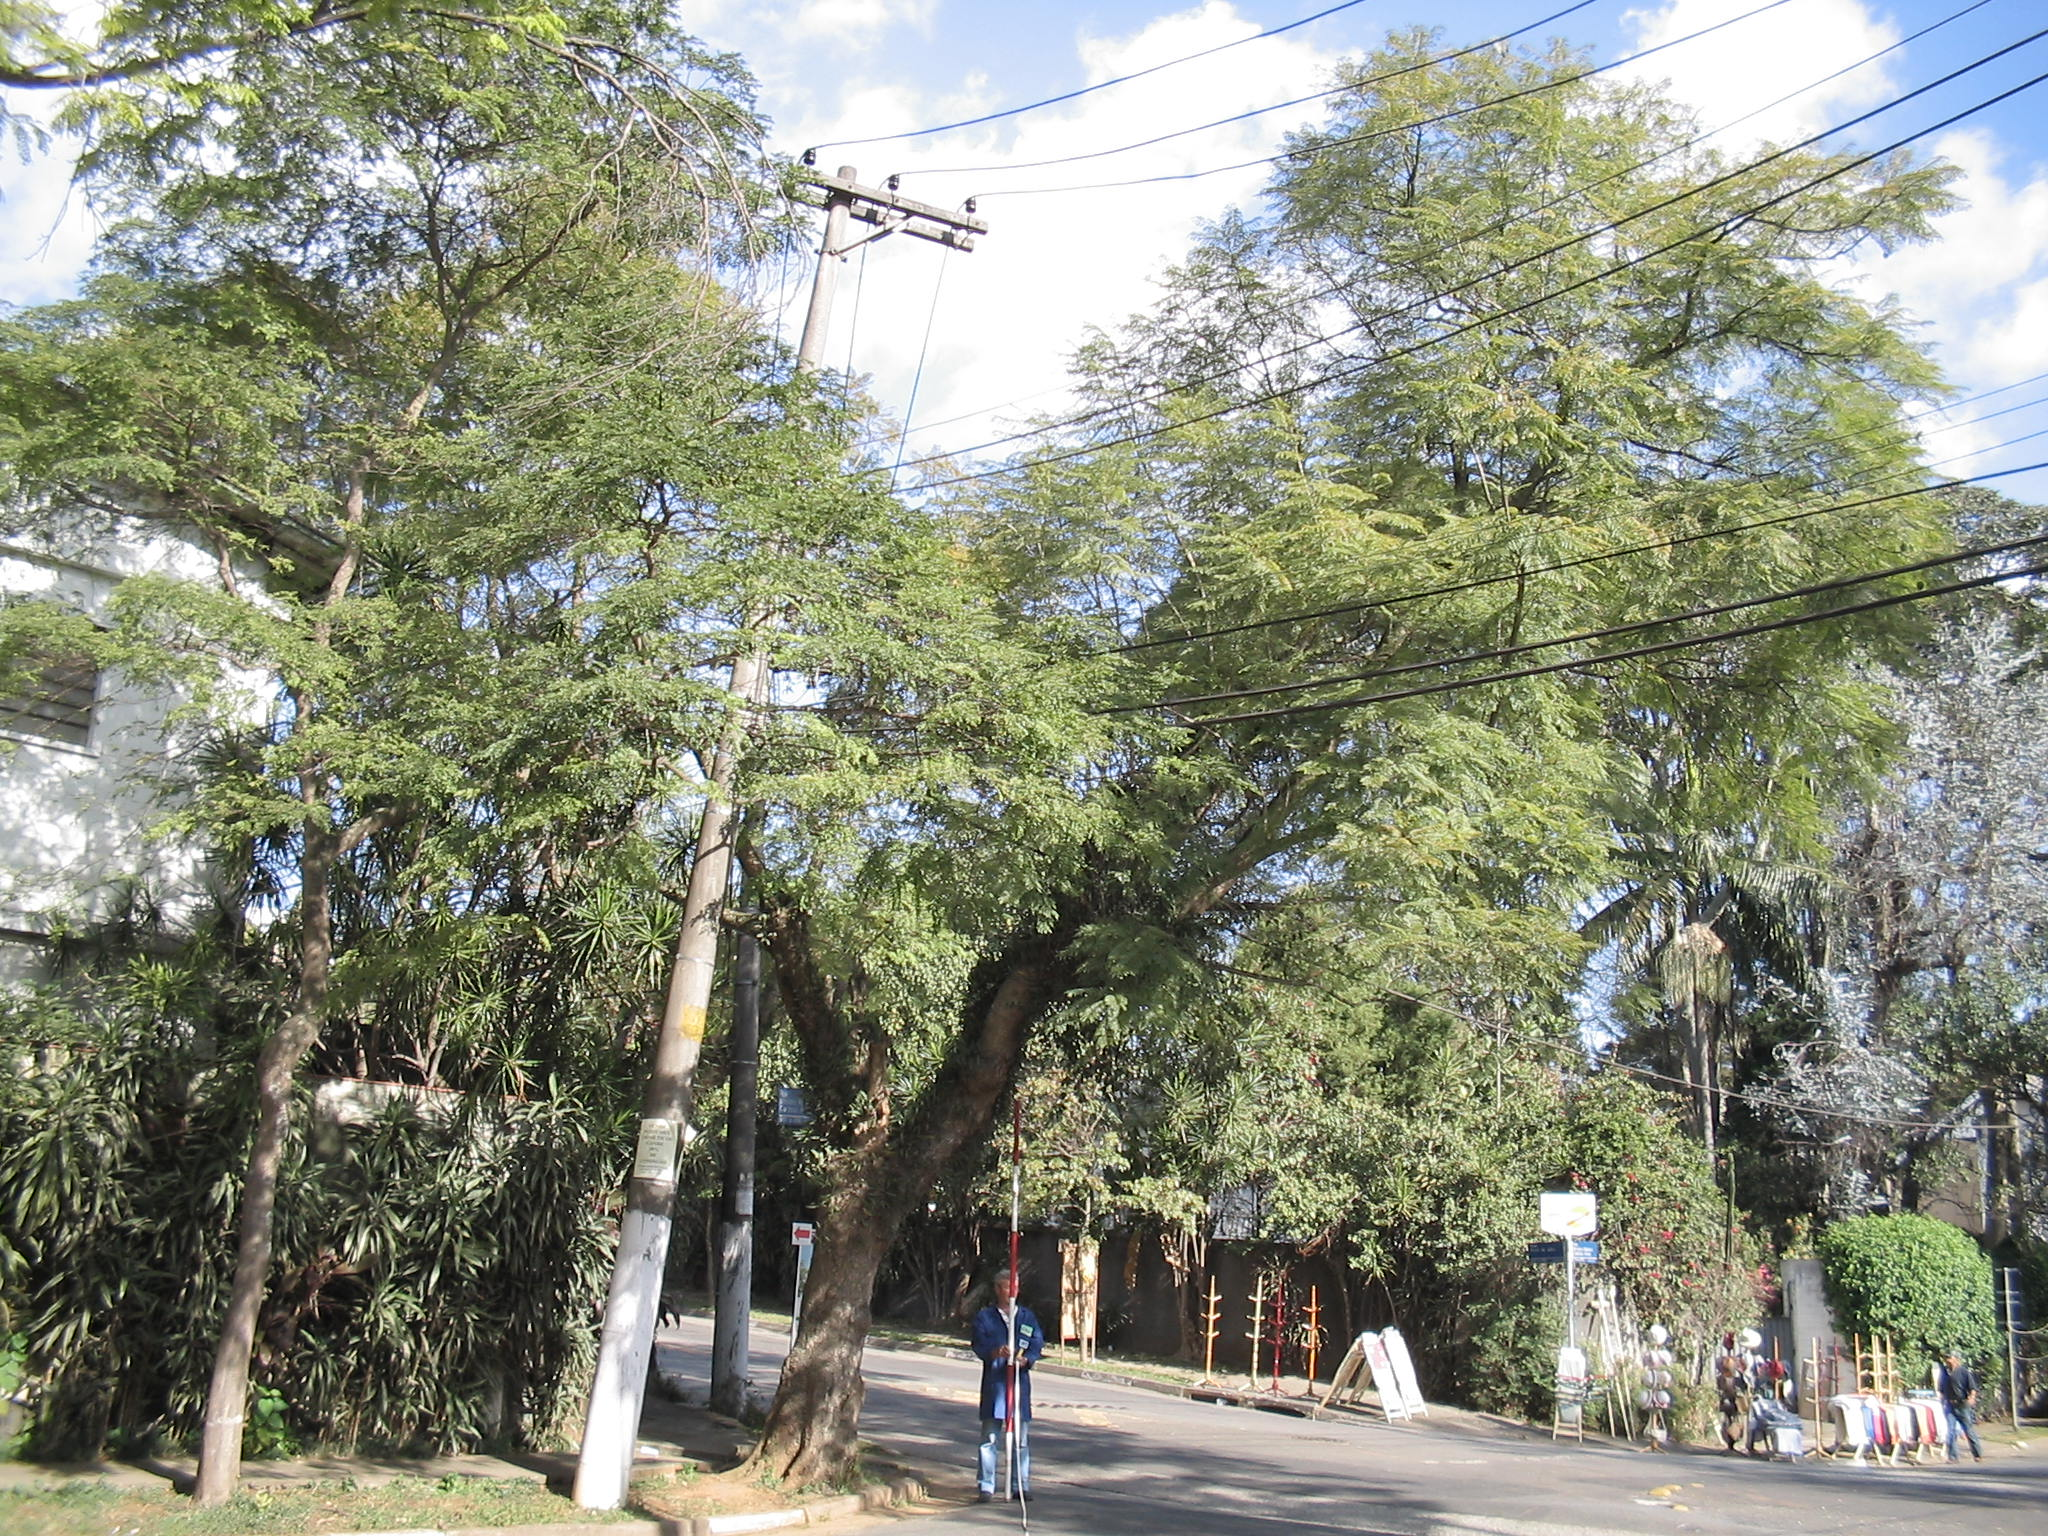crown: (42, 32, 1975, 1104)
stem: (727, 1171, 929, 1488)
stick: (985, 1099, 1030, 1501)
tree: (32, 31, 1979, 1489)
